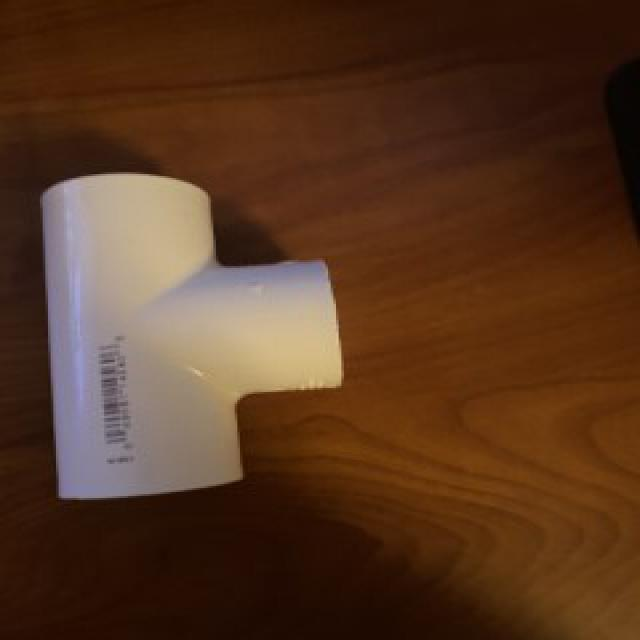T Joint: (38, 174, 344, 503)
